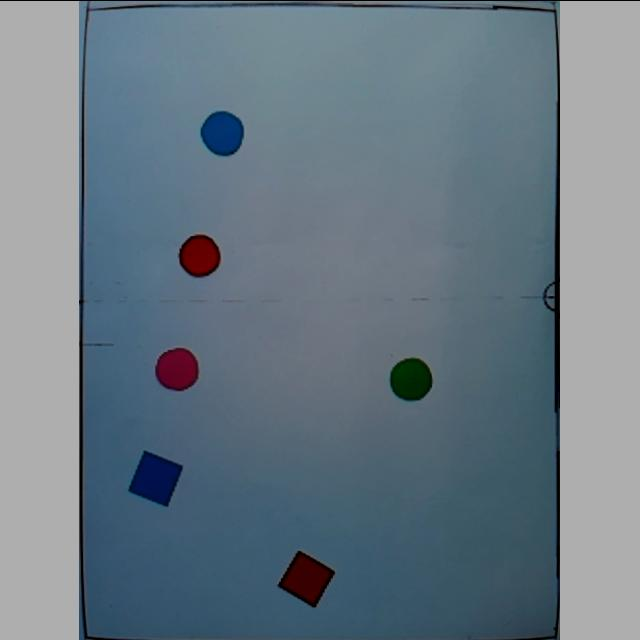blueCircle: (202, 110, 246, 154)
blueSquare: (130, 449, 186, 506)
greenCircle: (390, 356, 436, 400)
pinkCircle: (156, 346, 204, 390)
redCircle: (179, 233, 223, 277)
redSquare: (278, 549, 336, 607)
